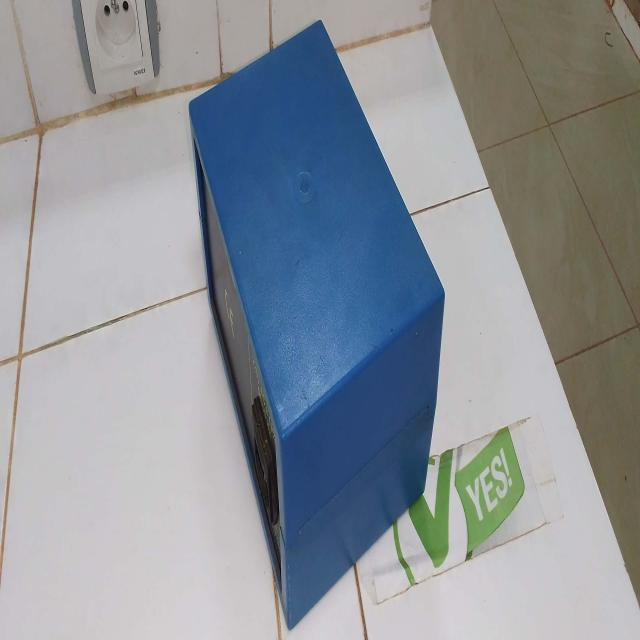Analog DC Power Supply: (186, 10, 448, 620)
